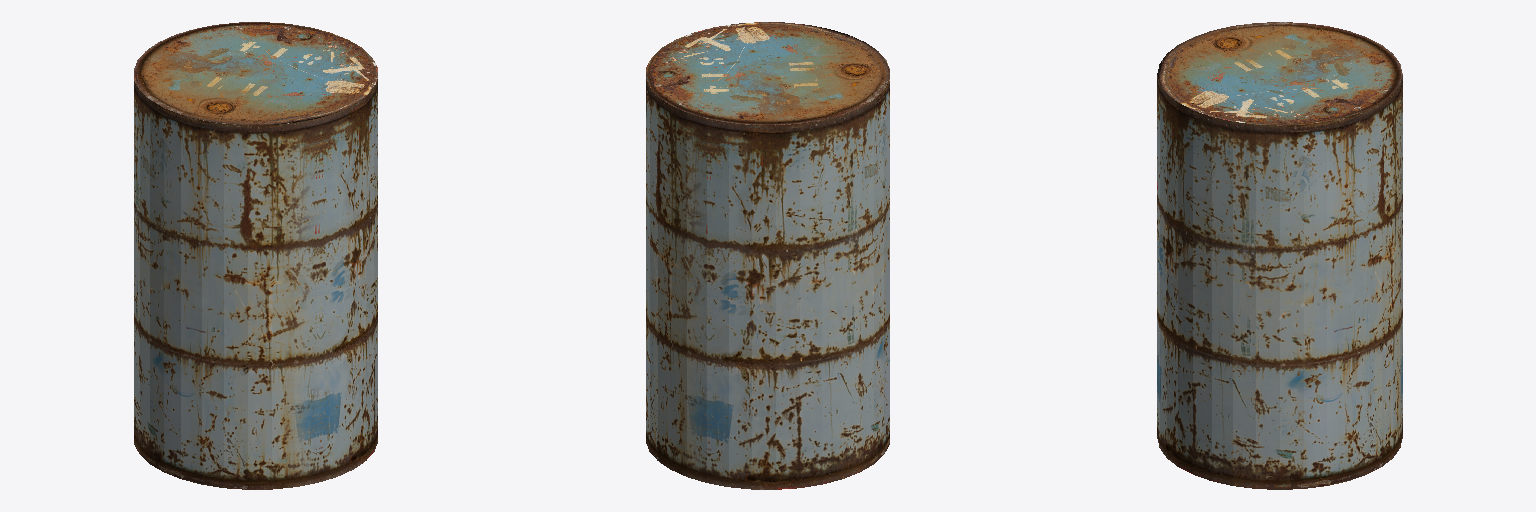
The picture shows the model from 3 angles: view 1: azimuth 30°, elevation 25°; view 2: azimuth 150°, elevation 25°; view 3: azimuth 270°, elevation 25°; orthographic projection.
Parts seen in each view (by area): view 1: sod_plasc_Cylinder.001, sod_krog_Cylinder.002; view 2: sod_plasc_Cylinder.001, sod_krog_Cylinder.002; view 3: sod_plasc_Cylinder.001, sod_krog_Cylinder.002.
Boxes of the visible parts, <box> form: sod_plasc_Cylinder.001: <box>134,79,377,489</box>; sod_krog_Cylinder.002: <box>134,22,377,125</box>; sod_plasc_Cylinder.001: <box>646,79,889,489</box>; sod_krog_Cylinder.002: <box>646,22,889,125</box>; sod_plasc_Cylinder.001: <box>1157,75,1402,489</box>; sod_krog_Cylinder.002: <box>1157,22,1402,125</box>.
Bounding box in the file's own units: 0.5114 × 0.8381 × 0.5114.
2 materials, 2 textured.